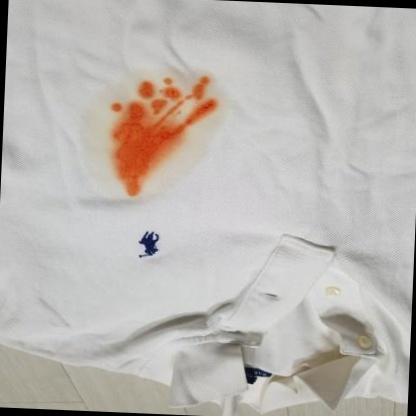kimchi: (80, 71, 221, 202), (112, 127, 182, 162), (112, 159, 156, 199), (185, 98, 227, 126), (190, 75, 216, 99), (148, 97, 170, 121), (123, 97, 145, 121), (134, 79, 155, 103), (159, 87, 181, 104), (109, 101, 119, 115), (159, 76, 172, 86)
